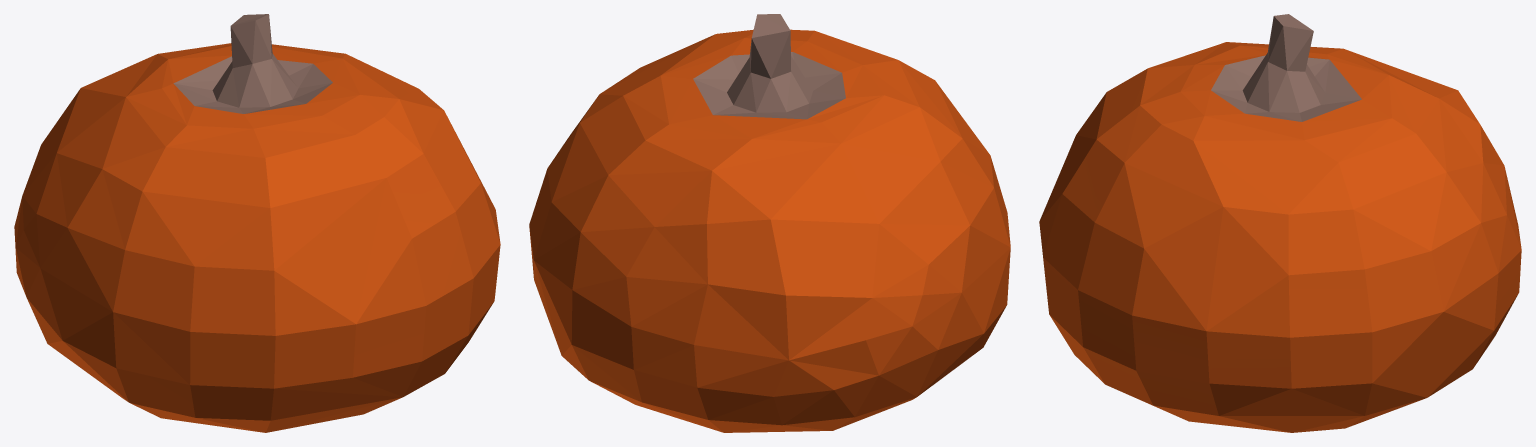
Rendered from fantasy_plant_030.fbx.
3 views of the same model, side by side, from view 1: azimuth 30°, elevation 25°; view 2: azimuth 150°, elevation 25°; view 3: azimuth 270°, elevation 25° (orthographic).
Visible parts, largest first — view 1: fantasy_plant.030; view 2: fantasy_plant.030; view 3: fantasy_plant.030.
Boxes of the visible parts, <box> form: fantasy_plant.030: <box>14,14,500,432</box>; fantasy_plant.030: <box>529,14,1010,432</box>; fantasy_plant.030: <box>1039,14,1521,432</box>.
Size of the model in its own units: 139 by 117 by 141.
1 material, 1 textured.
